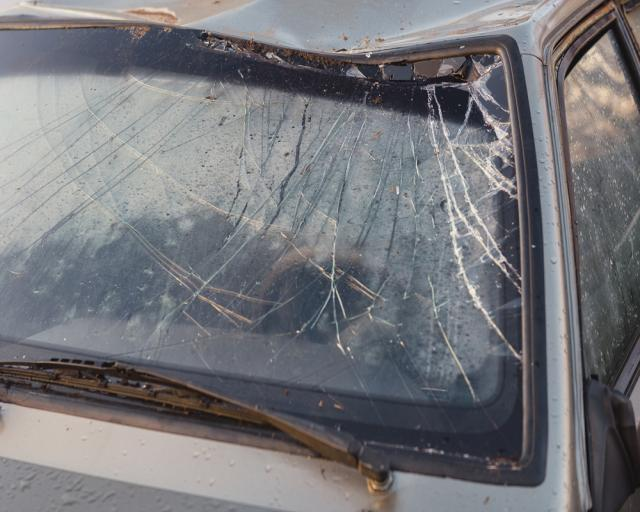dent: (201, 2, 545, 52)
glass shatter: (0, 27, 526, 464)
